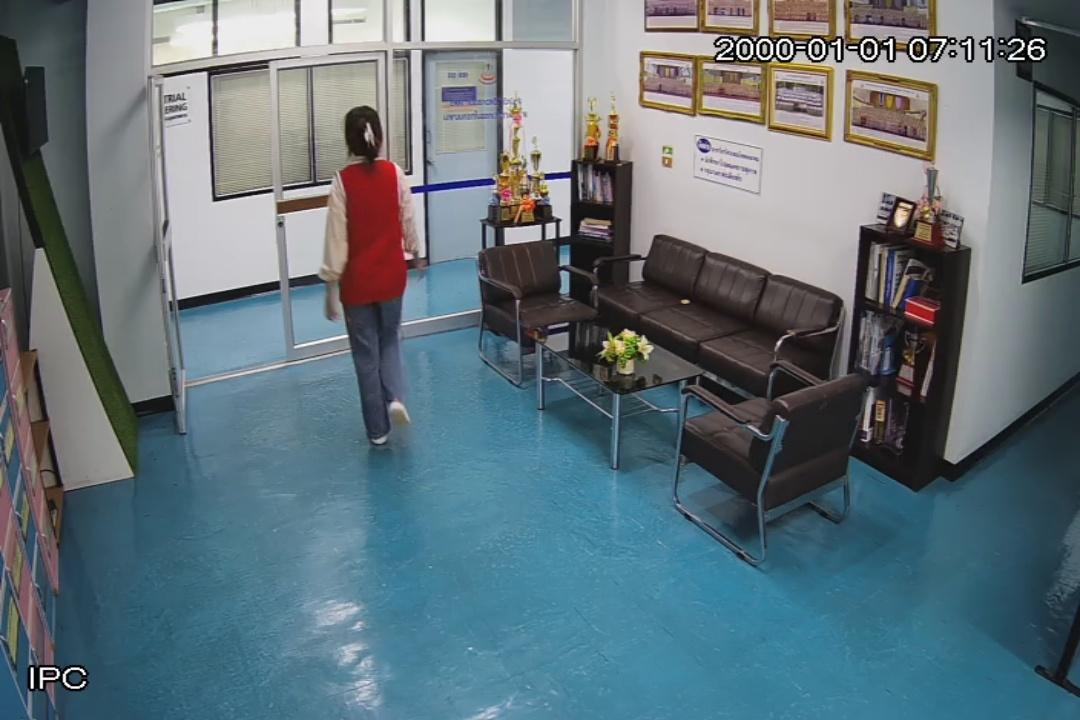normal: (318, 98, 430, 456)
